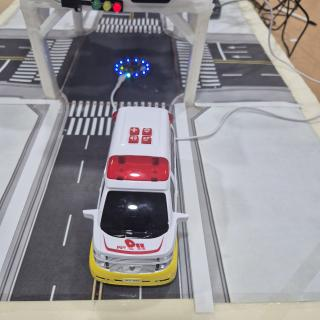Ambulance: (83, 107, 188, 286)
